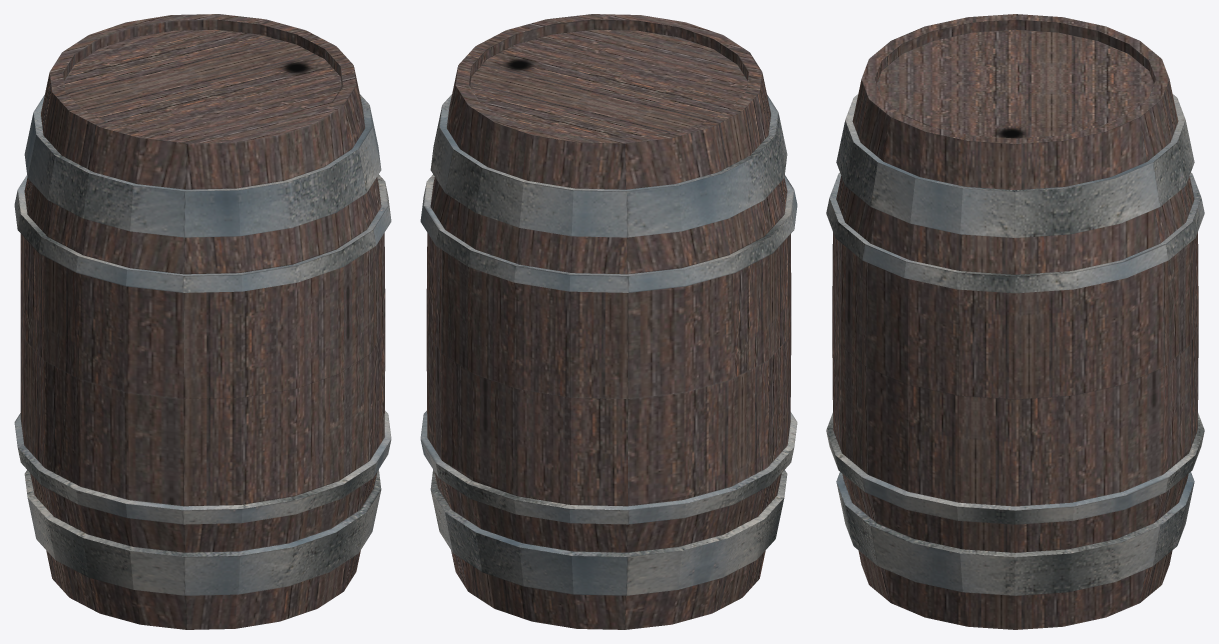
Rendered from Barrel.fbx.
3 views of the same model, side by side, from view 1: azimuth 30°, elevation 25°; view 2: azimuth 150°, elevation 25°; view 3: azimuth 270°, elevation 25° (orthographic).
Parts seen in each view (by area): view 1: Barrel; view 2: Barrel; view 3: Barrel.
Boxes of the visible parts, left/top/right/bottom form: Barrel: left=14, top=14, right=391, bottom=629; Barrel: left=420, top=14, right=797, bottom=629; Barrel: left=826, top=14, right=1204, bottom=629.
Size of the model in its own units: 2.46 by 3.48 by 2.46.
